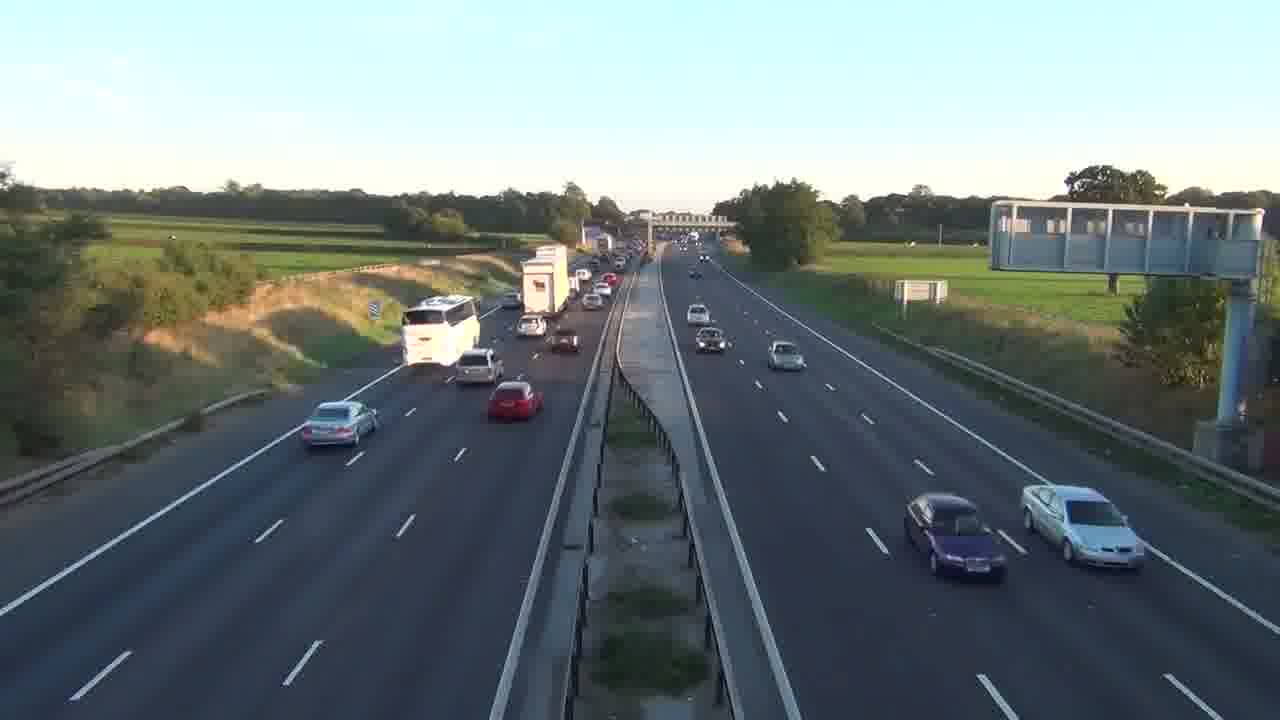bus: (401, 293, 482, 367)
car: (903, 491, 1008, 583), (303, 399, 379, 448), (486, 380, 544, 421), (451, 347, 504, 384), (768, 340, 807, 372), (686, 304, 711, 325)
truck: (1021, 482, 1144, 570)
